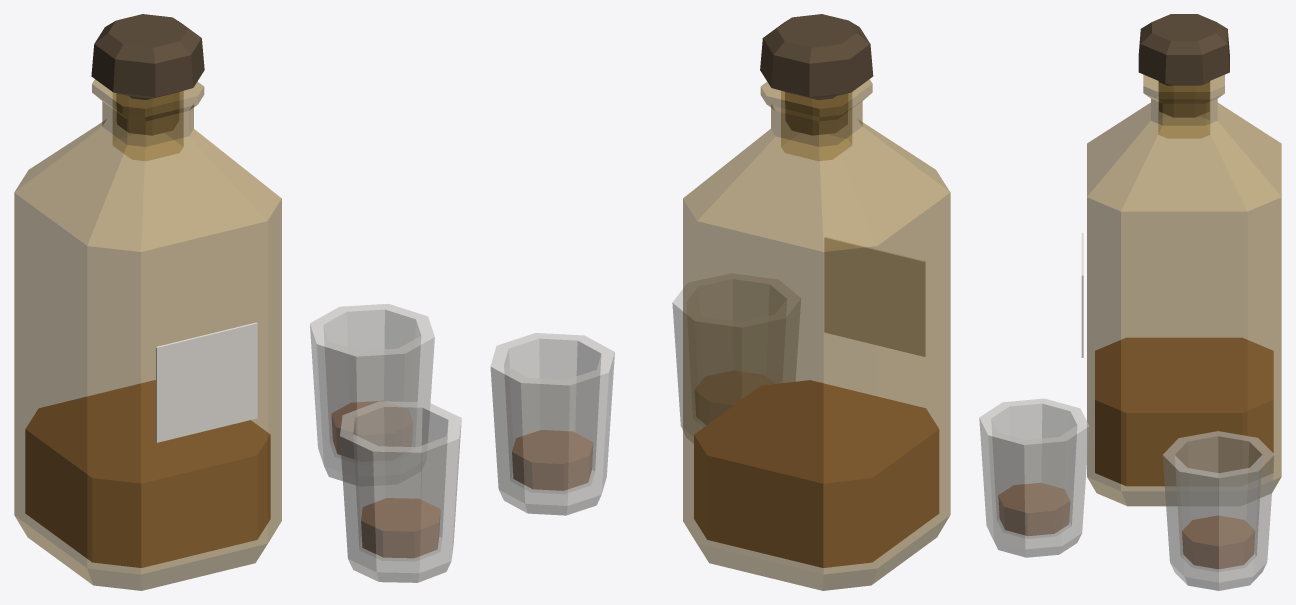
The model's file is whiskey-bottle-and-glass-fa24b4.glb.
The picture shows the model from 3 angles, left to right: view 1: azimuth 30°, elevation 25°; view 2: azimuth 150°, elevation 25°; view 3: azimuth 270°, elevation 25°; orthographic projection. The views are drawn at different scales.
Parts seen in each view (by area): view 1: bottle-glass, bottle-solid, glasses-glass, cork-mesh, glasses-solid; view 2: bottle-glass, bottle-solid, glasses-glass, cork-mesh, glasses-solid; view 3: bottle-glass, glasses-glass, bottle-solid, cork-mesh, glasses-solid.
Boxes of the visible parts, left/top/right/bottom form: bottle-glass: left=14, top=79, right=281, bottom=590; bottle-solid: left=25, top=322, right=270, bottom=567; glasses-glass: left=310, top=304, right=461, bottom=582; cork-mesh: left=91, top=14, right=204, bottom=135; glasses-solid: left=331, top=401, right=440, bottom=557; bottle-glass: left=683, top=79, right=950, bottom=590; bottle-solid: left=694, top=237, right=938, bottom=567; glasses-glass: left=490, top=273, right=800, bottom=515; cork-mesh: left=760, top=14, right=873, bottom=135; glasses-solid: left=512, top=371, right=773, bottom=490; bottle-glass: left=1087, top=75, right=1281, bottom=506; glasses-glass: left=979, top=398, right=1274, bottom=590; bottle-solid: left=1081, top=233, right=1273, bottom=485; cork-mesh: left=1138, top=14, right=1229, bottom=117; glasses-solid: left=998, top=483, right=1254, bottom=568.
Bounding box in the file's own units: 0.245 × 0.3 × 0.1863.
